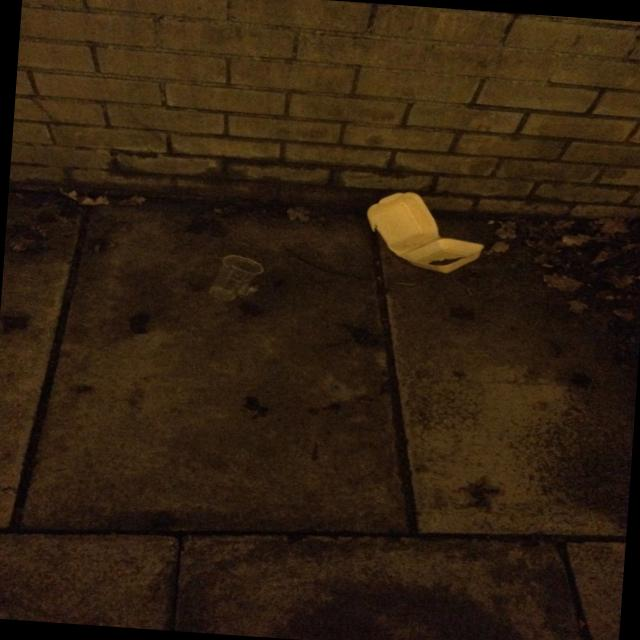less trash: (367, 192, 482, 273), (208, 255, 264, 301)
